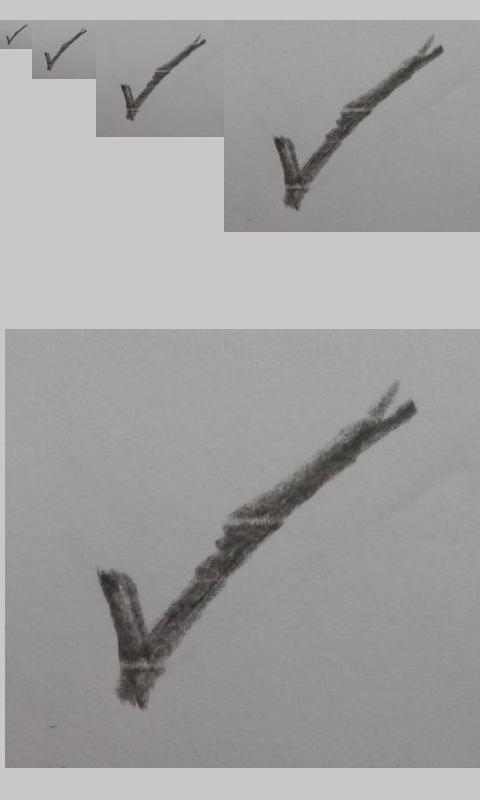check_box: (100, 401, 414, 698), (275, 42, 442, 206), (121, 38, 205, 120), (43, 29, 86, 71), (6, 24, 27, 45)
